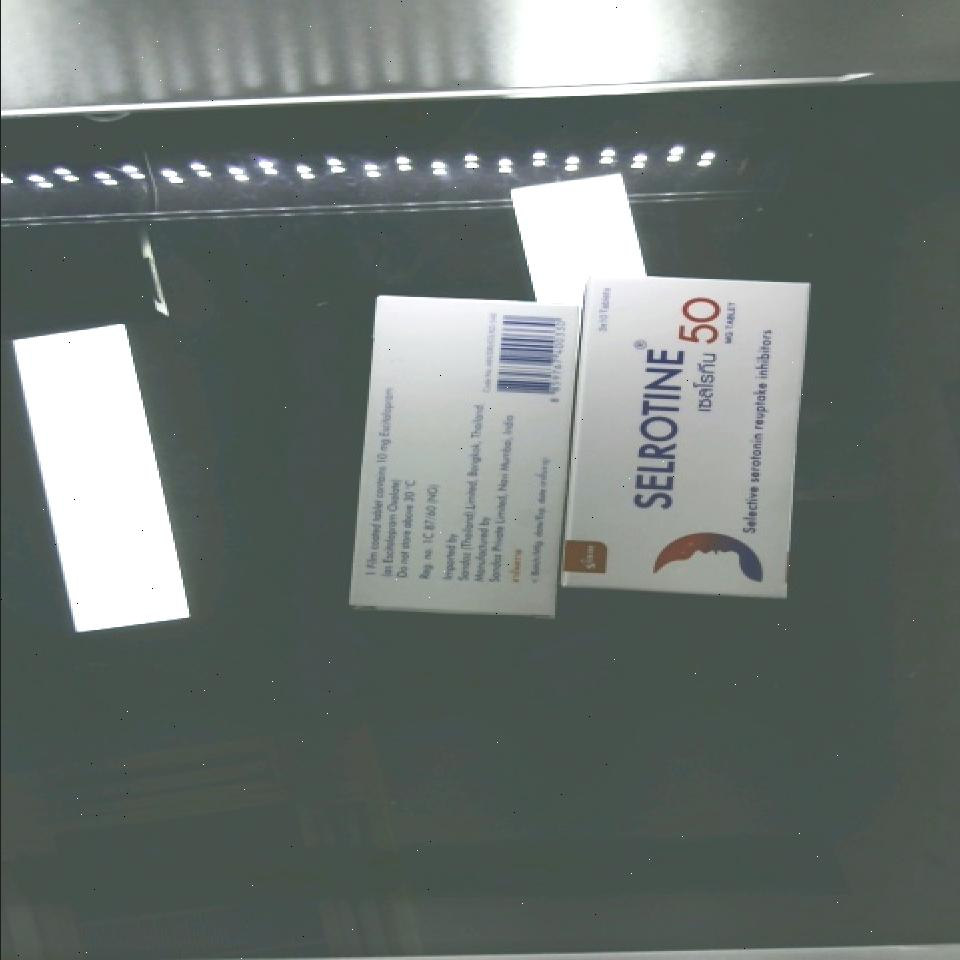medicine_box: (561, 270, 807, 600), (352, 288, 580, 622)
medicine_label_obb: (607, 274, 758, 538)
